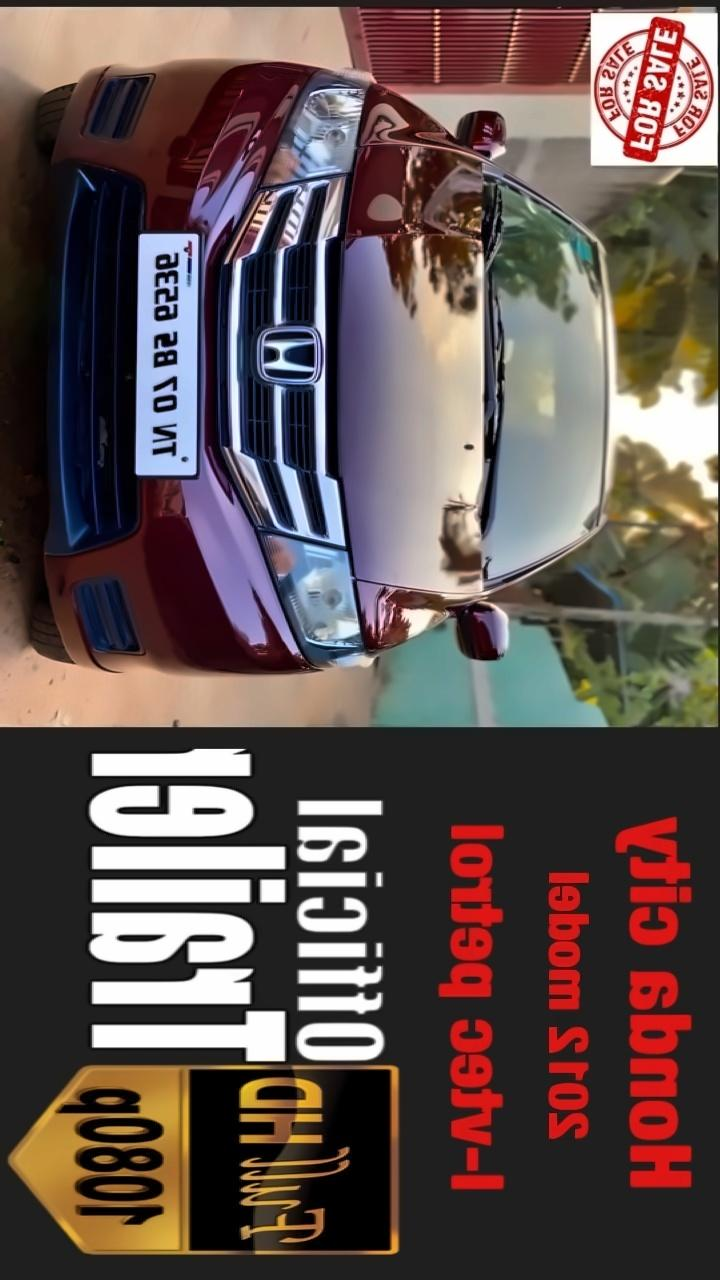Car hood: (330, 76, 497, 657)
Front bumper: (26, 46, 277, 684)
Headlight - -L-: (248, 510, 388, 687)
Headlight - -R-: (252, 56, 374, 201)
Side mirror - -L-: (444, 584, 523, 677)
Side mirror - -R-: (453, 82, 523, 172)
